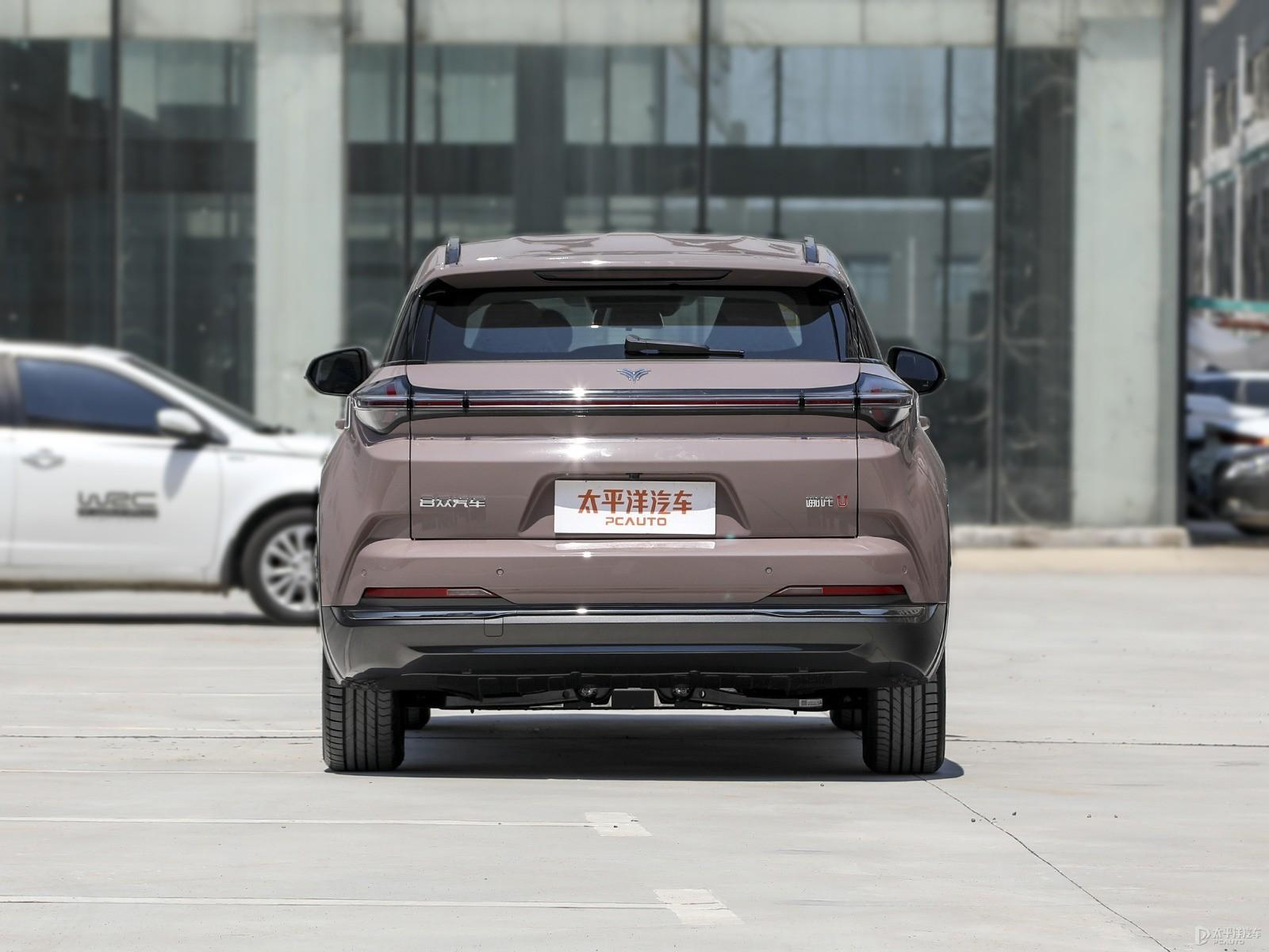NETA: (615, 367, 654, 384)
